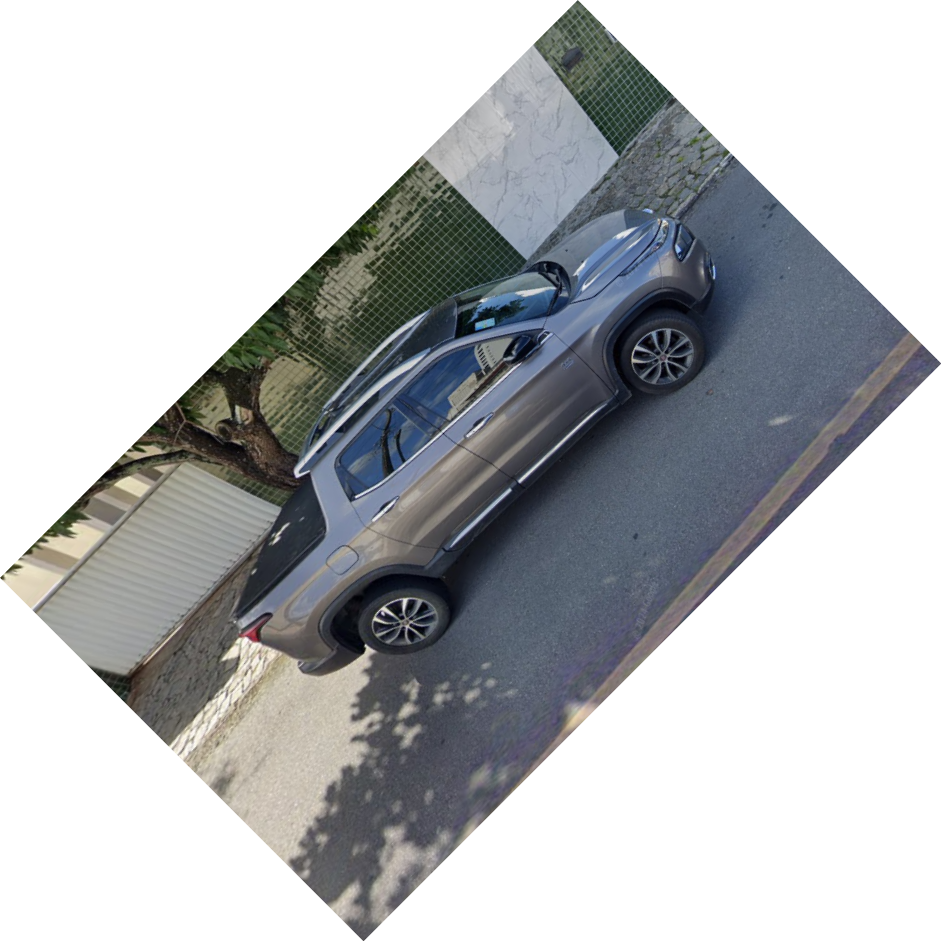car: (229, 203, 719, 675)
